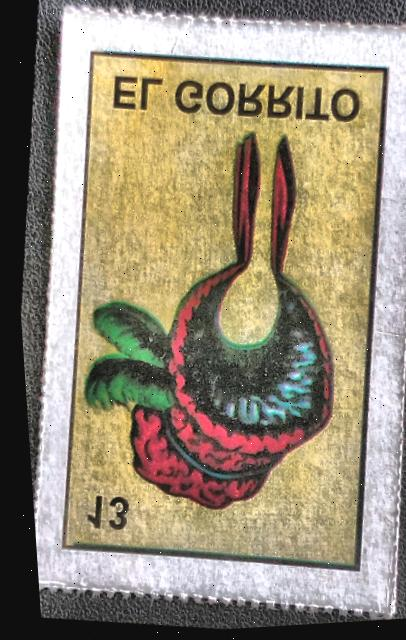El Gorrito: (11, 10, 406, 607)
